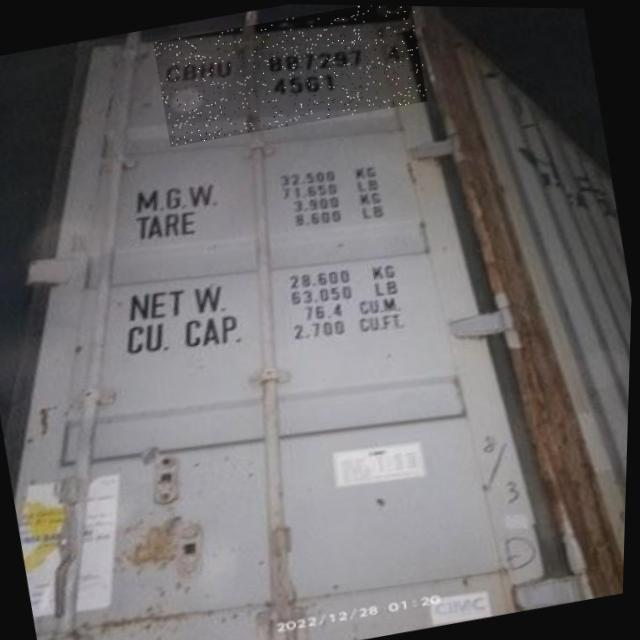container_number_h: (152, 2, 432, 149)
